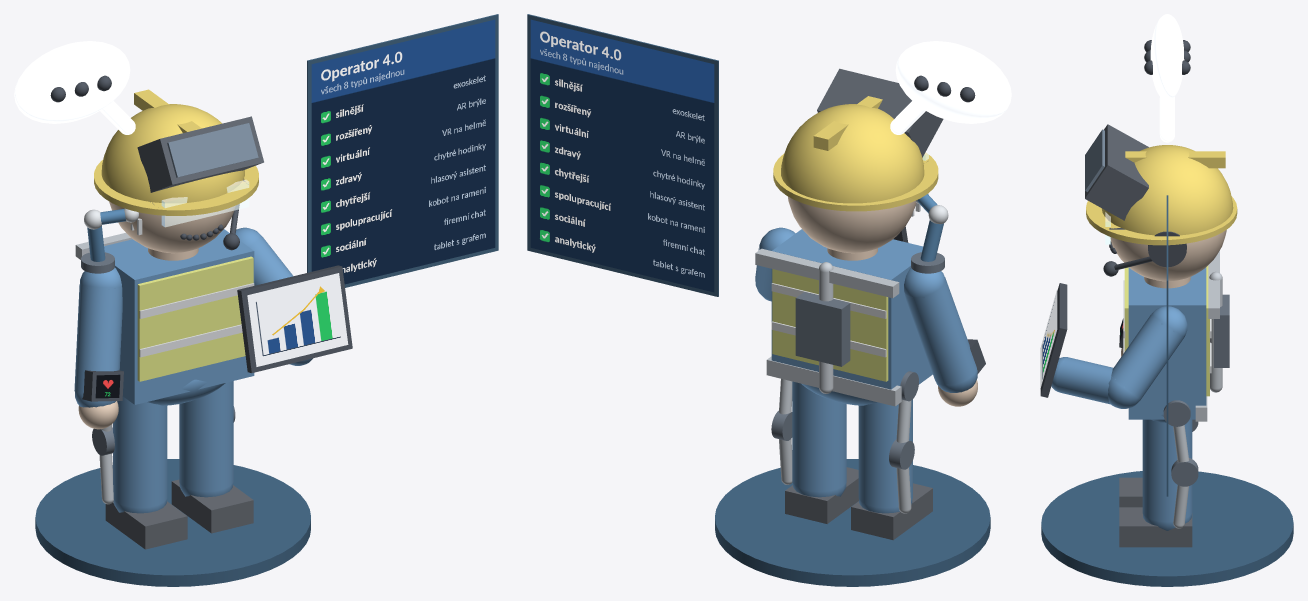
File: operator.glb
The picture shows the model from 3 angles, left to right: view 1: azimuth 30°, elevation 25°; view 2: azimuth 150°, elevation 25°; view 3: azimuth 270°, elevation 25°; orthographic projection. The views are drawn at different scales.
Visible parts, largest first — view 1: Operator 4.0; view 2: Operator 4.0; view 3: Operator 4.0.
Part boxes in pixels (x1,y1,x2,y2): Operator 4.0: [14, 14, 498, 586]; Operator 4.0: [527, 14, 1011, 586]; Operator 4.0: [1040, 14, 1293, 586].
Bounding box in the file's own units: 0.5265 × 0.53 × 0.2609.
18 materials, 1 textured.
